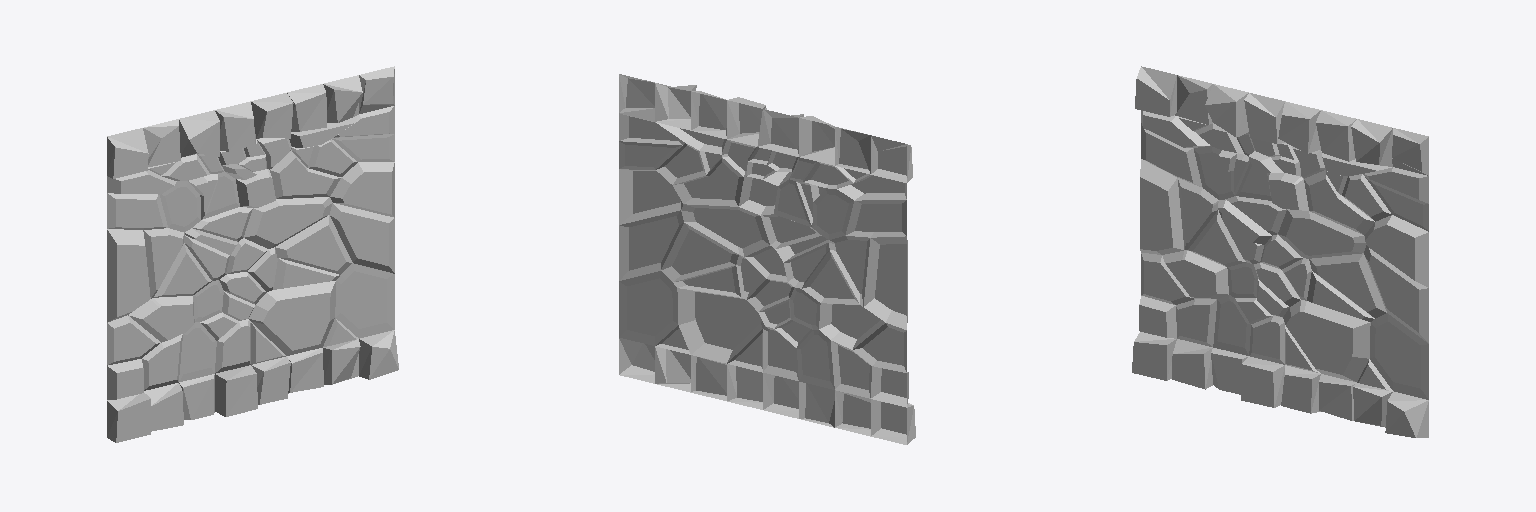
File: wall_v2.obj
3 views of the same model, side by side, from view 1: azimuth 30°, elevation 25°; view 2: azimuth 150°, elevation 25°; view 3: azimuth 330°, elevation 25° (orthographic).
Visible parts, largest first — view 1: wall_v2_Cube.008; view 2: wall_v2_Cube.008; view 3: wall_v2_Cube.008.
Part boxes in pixels (x1,y1,x2,y2): wall_v2_Cube.008: (107,66,398,442); wall_v2_Cube.008: (619,74,915,444); wall_v2_Cube.008: (1132,66,1428,437).
Bounding box in the file's own units: 2 × 2 × 0.1241.